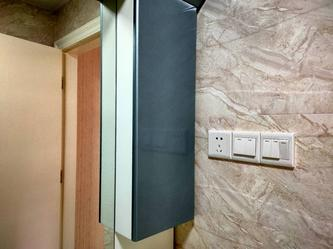switch: (283, 139, 292, 161), (273, 139, 282, 159), (246, 137, 254, 159), (233, 137, 242, 153), (263, 139, 270, 157)
